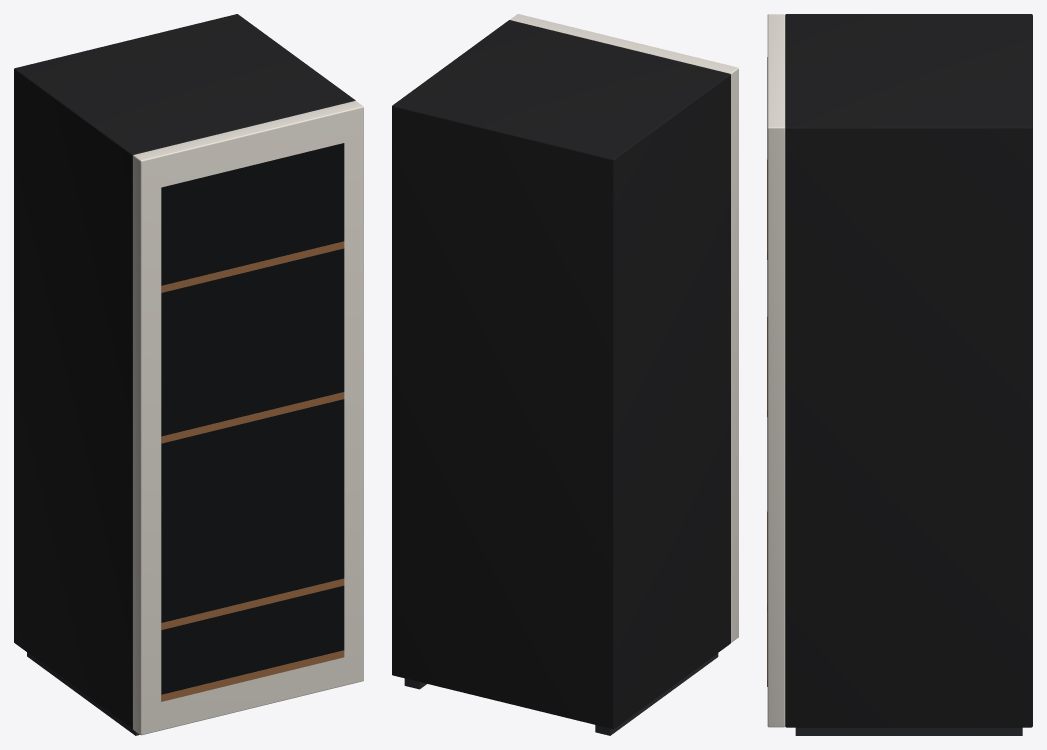
3 renders of one model, left to right at view 1: azimuth 30°, elevation 25°; view 2: azimuth 150°, elevation 25°; view 3: azimuth 270°, elevation 25°, orthographic. The views are drawn at different scales.
Parts seen in each view (by area): view 1: body, display_glass, door_0_frame, wood_shelf_2, wood_shelf_3, wood_shelf_4, wood_shelf_1; view 2: body, door_0_frame, trim_foot_left; view 3: body, door_0_frame, trim_foot_right, display_glass.
Boxes of the visible parts, <box> form: body: <box>14,14,355,728</box>; display_glass: <box>161,143,344,694</box>; door_0_frame: <box>133,101,363,735</box>; wood_shelf_2: <box>161,392,344,443</box>; wood_shelf_3: <box>161,578,344,629</box>; wood_shelf_4: <box>161,650,344,701</box>; wood_shelf_1: <box>161,241,344,292</box>; body: <box>392,20,730,729</box>; door_0_frame: <box>510,14,738,642</box>; trim_foot_left: <box>595,653,718,735</box>; body: <box>785,14,1032,727</box>; door_0_frame: <box>767,14,785,727</box>; trim_foot_right: <box>795,727,1022,735</box>; display_glass: <box>767,57,767,686</box>.
Size of the model in its own units: 0.595 by 1.49 by 0.585.
